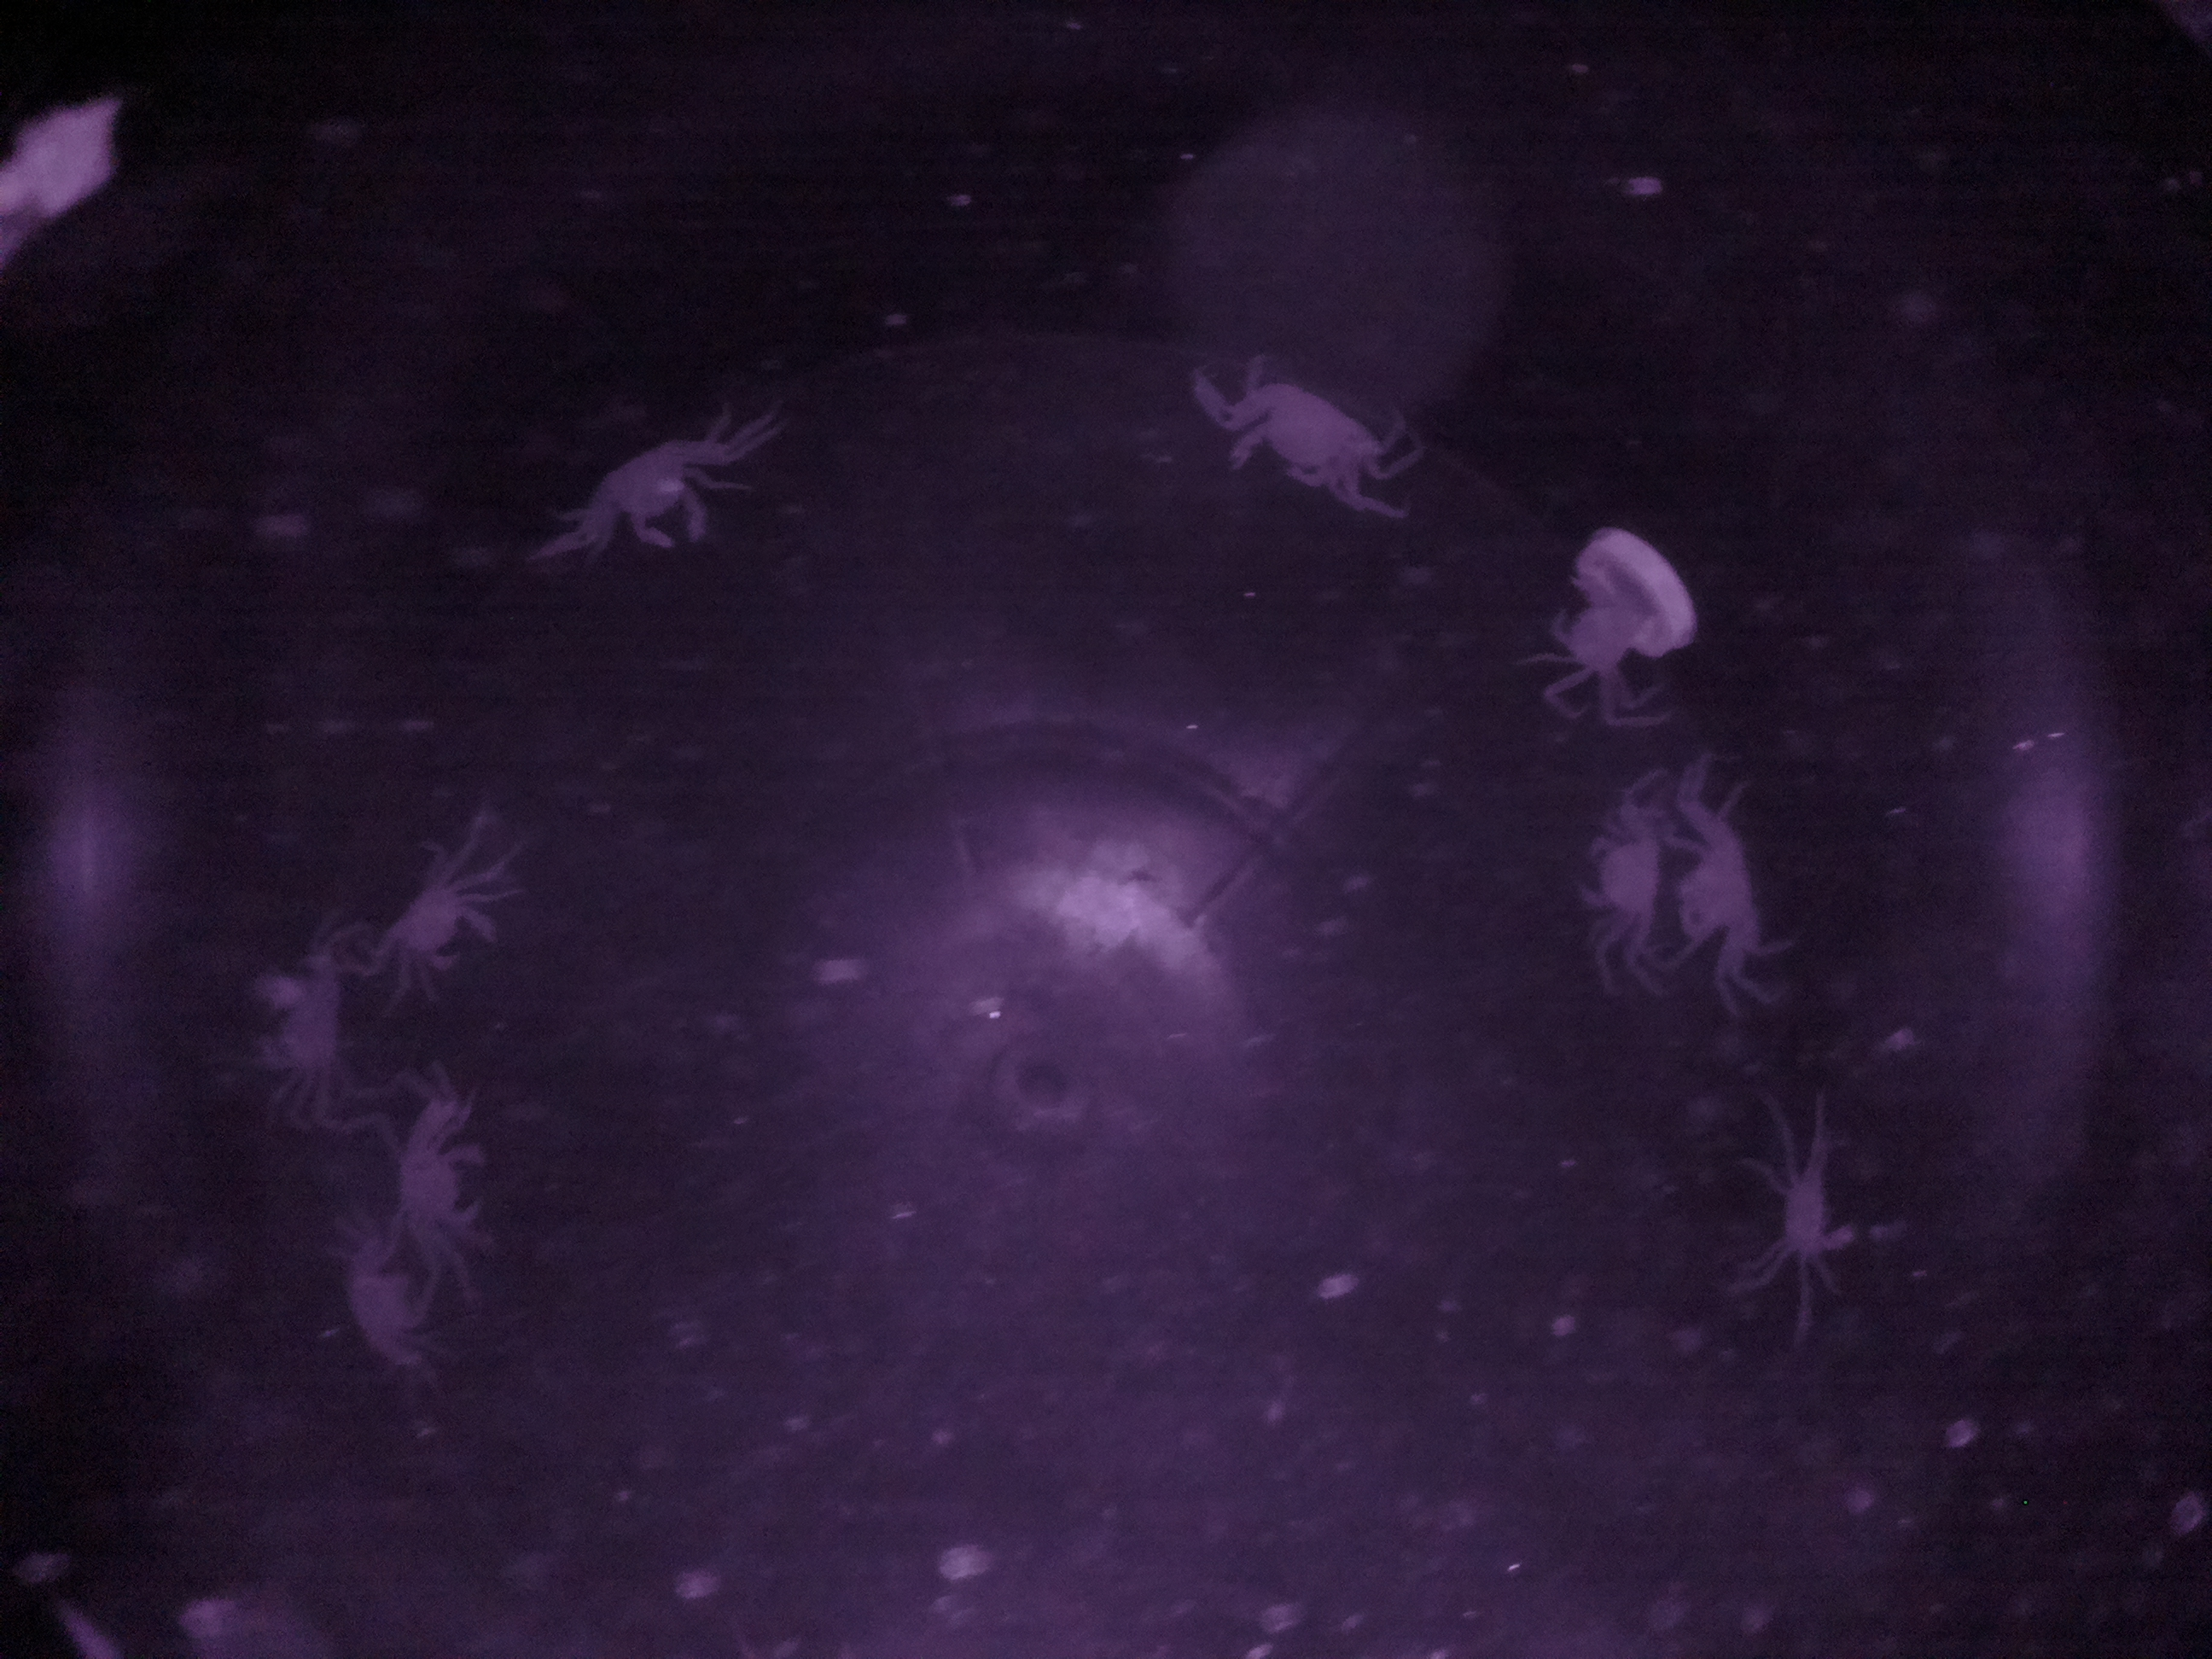Crab: (1186, 352, 1407, 519), (1677, 782, 1792, 1056), (347, 824, 507, 1011), (371, 1080, 519, 1274), (577, 406, 733, 586), (1728, 1115, 1876, 1295), (1562, 791, 1679, 1004)
